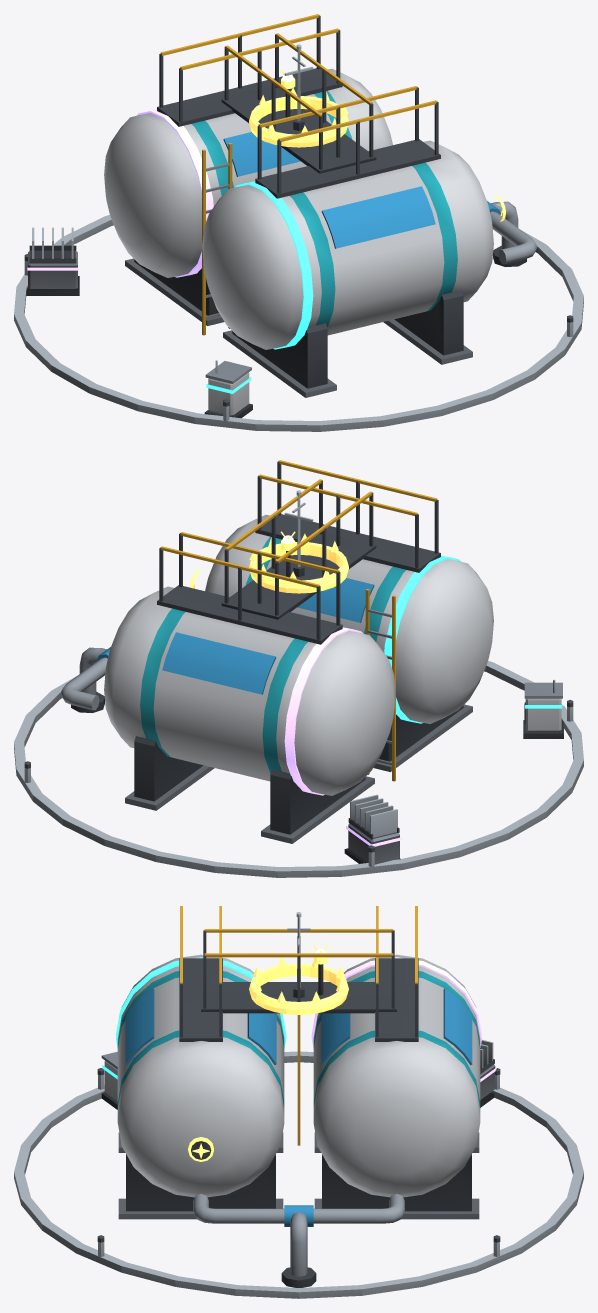
File: reservoir_l.glb
The picture shows the model from 3 angles, top to bottom: view 1: azimuth 30°, elevation 25°; view 2: azimuth 150°, elevation 25°; view 3: azimuth 270°, elevation 25°; orthographic projection.
Parts seen in each view (by area): view 1: Base, L2, L3, L4, L5; view 2: Base, L2, L4, L3, L5; view 3: Base, L2, L5, L4, L3.
Part boxes in pixels (<box>): Base: <box>104,14,537,397</box>; L2: <box>14,44,583,431</box>; L3: <box>204,181,313,418</box>; L4: <box>26,109,213,295</box>; L5: <box>249,69,505,221</box>; Base: <box>60,460,493,843</box>; L2: <box>14,490,583,877</box>; L4: <box>284,627,402,864</box>; L3: <box>384,555,563,738</box>; L5: <box>190,531,348,593</box>; Base: <box>117,906,480,1287</box>; L2: <box>14,912,583,1298</box>; L5: <box>188,945,348,1161</box>; L4: <box>311,957,497,1107</box>; L3: <box>101,957,286,1109</box>.
Size of the model in its own units: 7.86 by 4.06 by 7.86.
